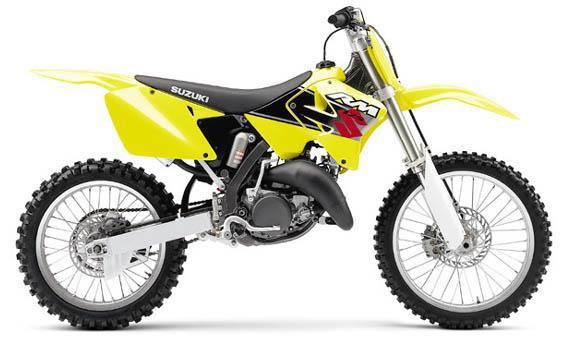motorcycle: (14, 3, 559, 340)
